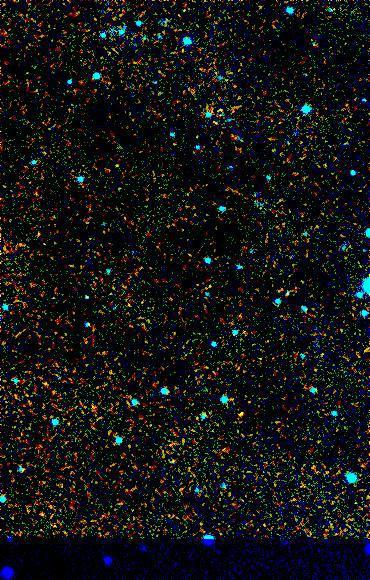star: (224, 398, 254, 428)
